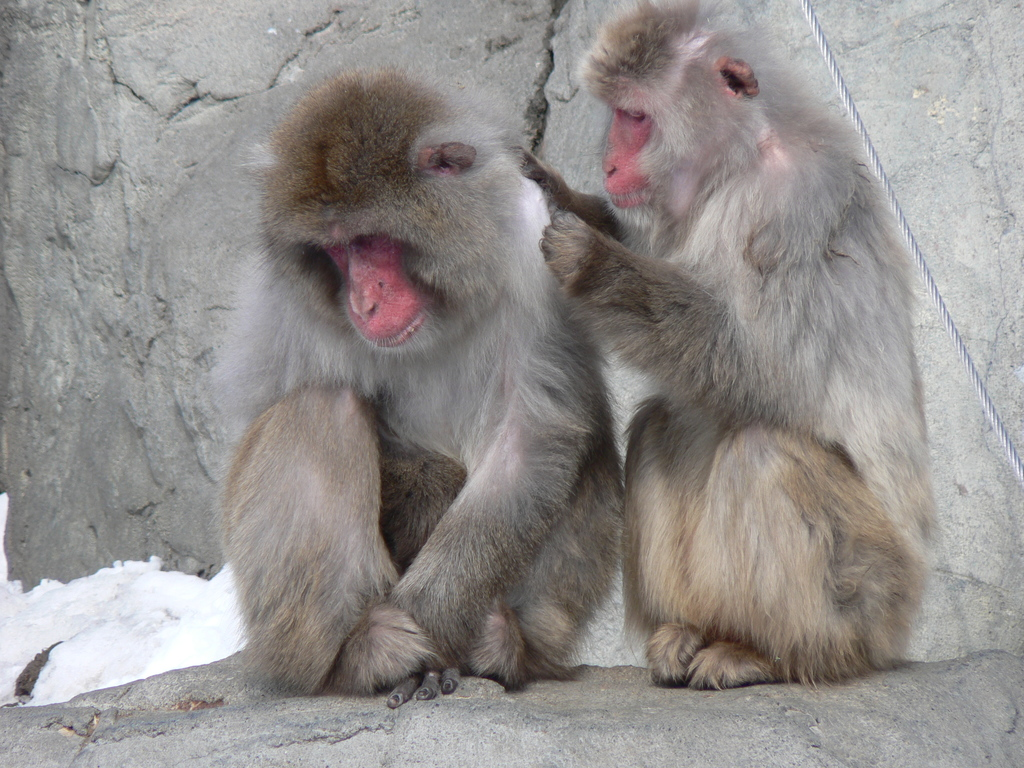person: (38, 687, 229, 739)
